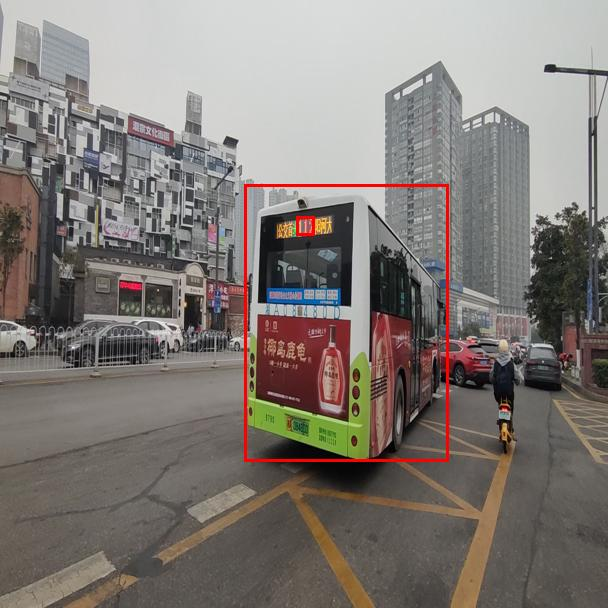bus: (244, 184, 448, 461)
screen: (296, 216, 314, 235)
